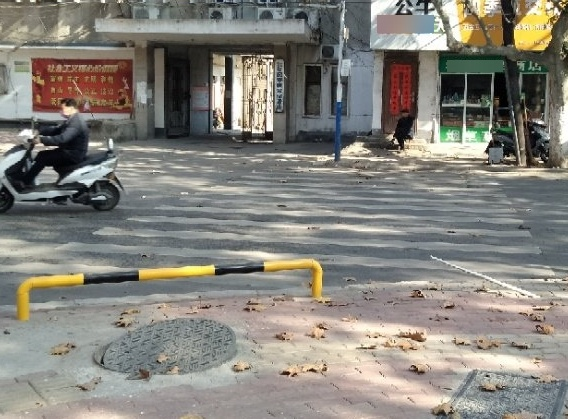good: (449, 369, 567, 419)
uncovered: (93, 319, 235, 376)
